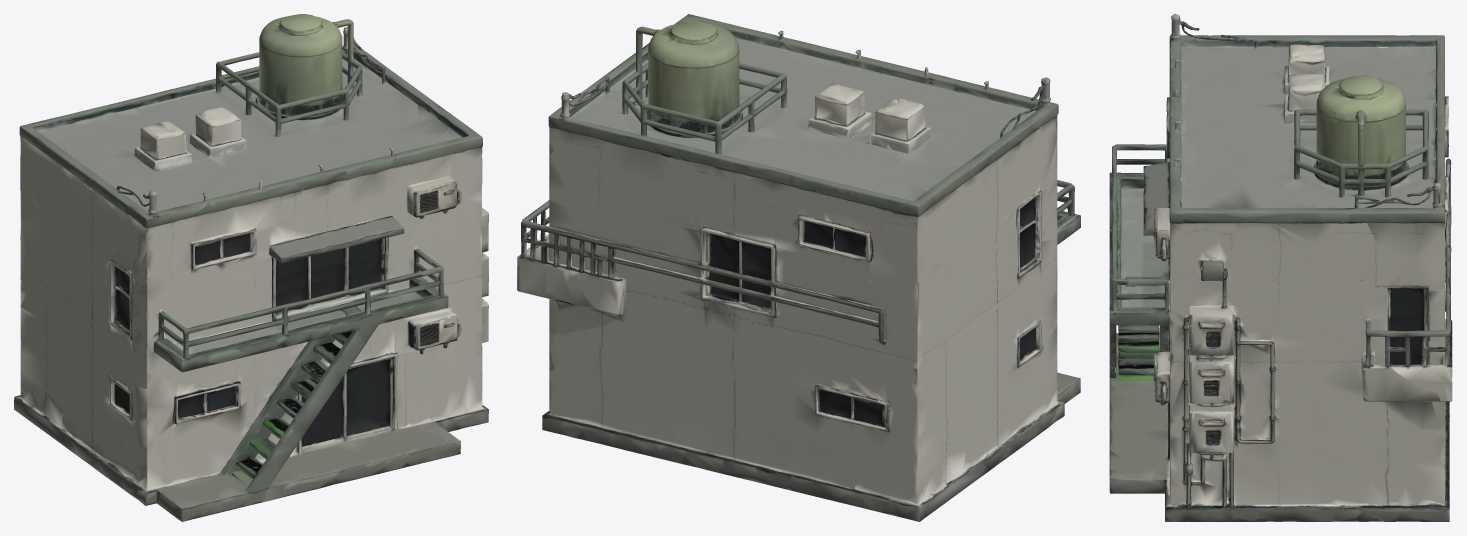
Rendered from building6.glb.
The picture shows the model from 3 angles, left to right: view 1: azimuth 30°, elevation 25°; view 2: azimuth 150°, elevation 25°; view 3: azimuth 270°, elevation 25°; orthographic projection. The views are drawn at different scales.
Parts seen in each view (by area): view 1: tripo_node_8c6ff321-60a6-4cf5-ac5c-8bf0d037c865; view 2: tripo_node_8c6ff321-60a6-4cf5-ac5c-8bf0d037c865; view 3: tripo_node_8c6ff321-60a6-4cf5-ac5c-8bf0d037c865.
Boxes of the visible parts, x1=… form: tripo_node_8c6ff321-60a6-4cf5-ac5c-8bf0d037c865: x1=14, y1=14, x2=488, y2=521; tripo_node_8c6ff321-60a6-4cf5-ac5c-8bf0d037c865: x1=517, y1=14, x2=1080, y2=521; tripo_node_8c6ff321-60a6-4cf5-ac5c-8bf0d037c865: x1=1109, y1=14, x2=1452, y2=521.
Bounding box in the file's own units: 0.9999 × 0.9365 × 0.7533.
Materials: 1 (1 with a texture image).
